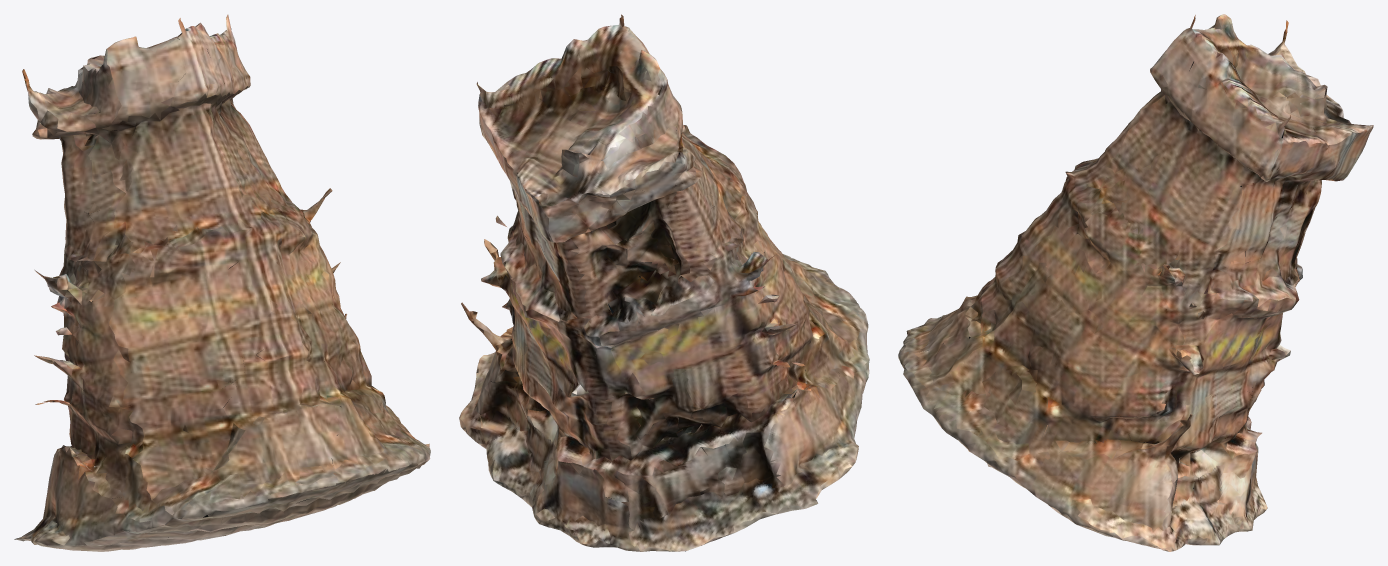
Rendered from vorash_wall.glb.
The picture shows the model from 3 angles, left to right: view 1: azimuth 30°, elevation 25°; view 2: azimuth 150°, elevation 25°; view 3: azimuth 270°, elevation 25°; orthographic projection. The views are drawn at different scales.
Visible parts, largest first — view 1: geometry_0; view 2: geometry_0; view 3: geometry_0.
Part boxes in pixels (x1,y1,x2,y2): geometry_0: [14, 14, 430, 551]; geometry_0: [459, 14, 869, 551]; geometry_0: [898, 14, 1373, 551].
Size of the model in its own units: 0.7119 by 0.9022 by 0.7857.
Materials: 1 (1 with a texture image).
